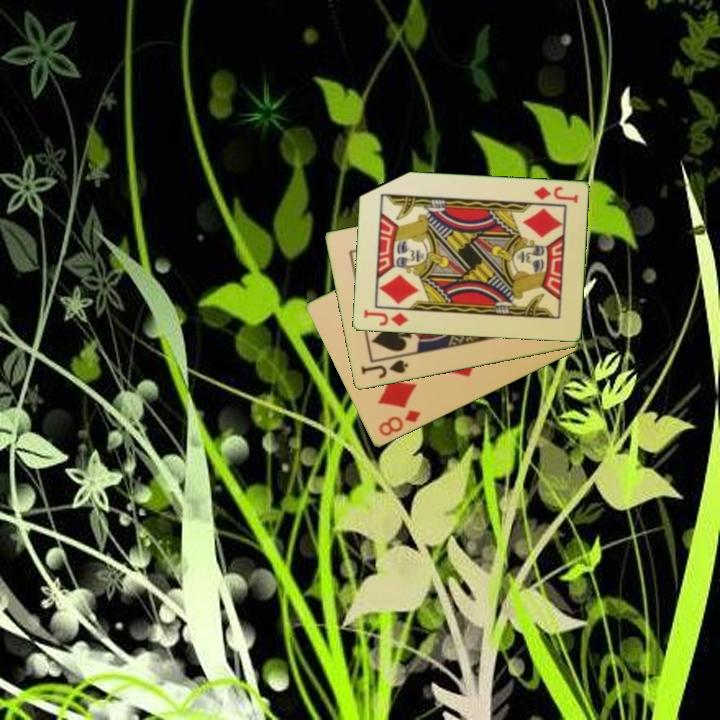8d: (375, 407, 423, 440)
Jd: (530, 183, 581, 206), (360, 307, 411, 329)
Js: (357, 357, 411, 381)
